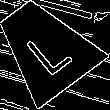L_NW: (16, 18, 73, 76)
